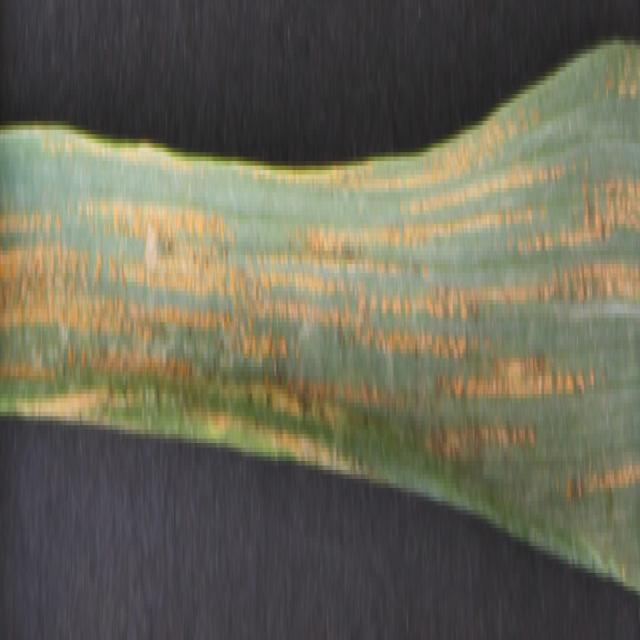leaf rust: (1, 90, 639, 501)
